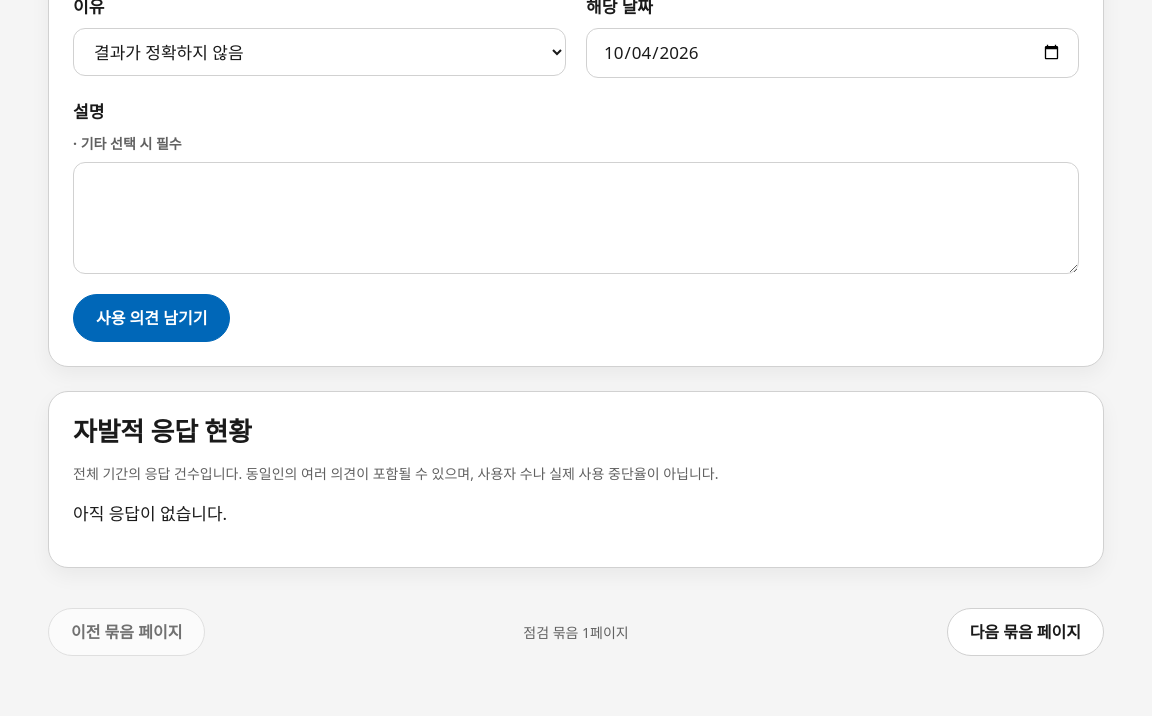
Test: shows old quality sample open and resolved followups that are absent from the global summary
(page scrolled)
Click the button "다음 묶음 페이지" at (1025,632), box [947, 608, 1104, 656]
(page scrolled)
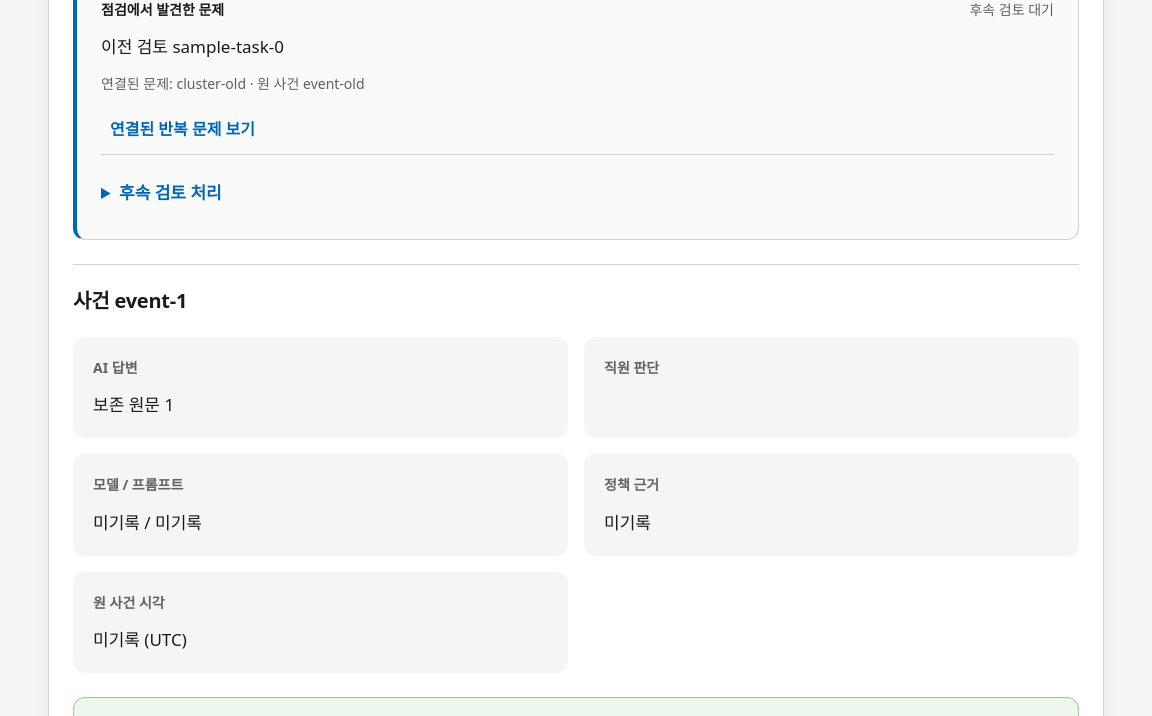
expect the number of elements "후속 검토" is 2: met
expect the text "이전 검토 sample-task-0" is shown: met, box [101, 35, 284, 58]
expect the text "후속 검토 대기" is shown once: met, box [969, 0, 1054, 21]
